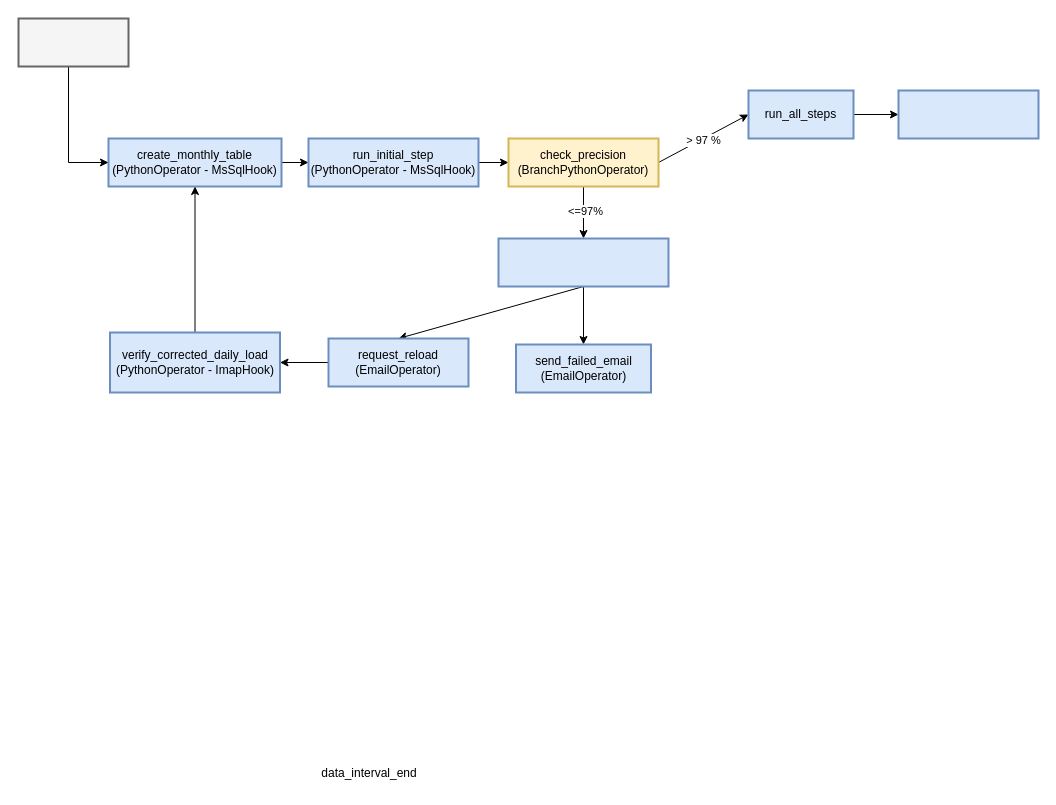
The diagram is 1056 pixels wide and 805 high, and some of its shapes have lost their labels. Each missing label, with the centre of its shape:
"review_cause (PythonOperator - MsSqlHook)" belongs at point (583, 262).
"send_success_email (EmailOperator)" belongs at point (968, 114).
"unknown_trigger (sensor)" belongs at point (73, 42).
